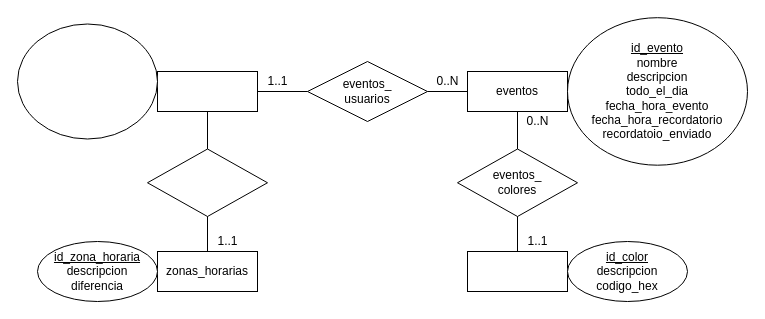
Some shapes in this 765 by 319 pixel diagram are drawn without their labels. Here are the shapes that lost their labels. From the top down, the centre of each, then its label:
the point at 87,81: id_usuario nombre_usuario contrasenia nombre_apellido telefono email foto
the point at 207,91: usuarios
the point at 207,182: usuarios_ zonas_ horarias
the point at 517,271: colores
